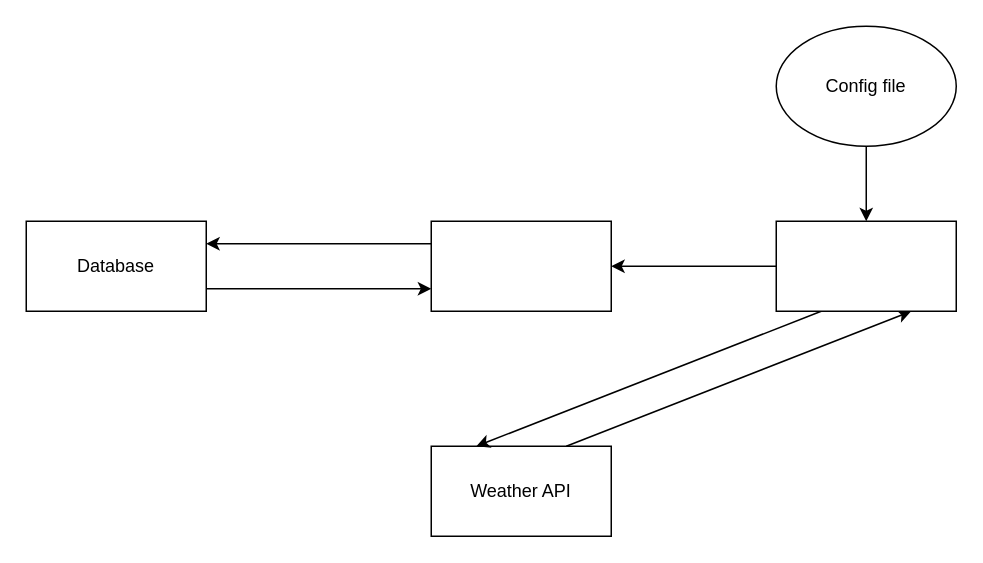
The diagram is 983 pixels wide and 563 high, and some of its shapes have lost their labels. The shapes that lost their labels are listed below. From the top down, each one's centre as x and y in pixels, then its label:
the point at 520,265: API
the point at 865,265: Python back end
